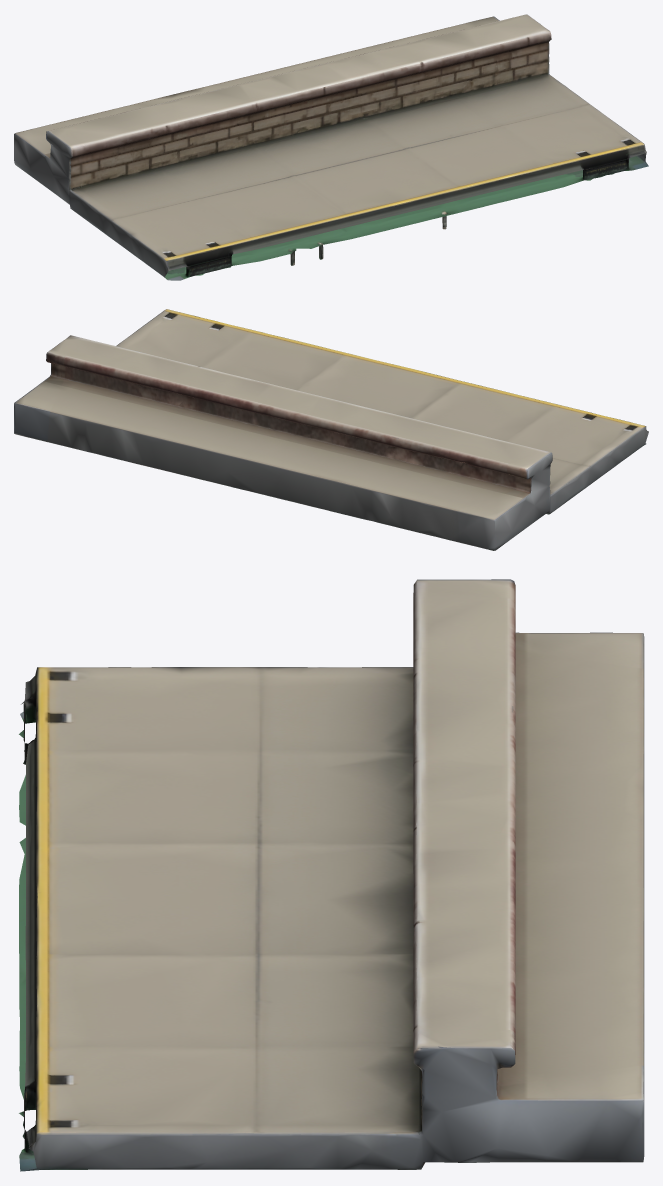
File: kaldırımtasi.fbx
The picture shows the model from 3 angles, top to bottom: view 1: azimuth 30°, elevation 25°; view 2: azimuth 150°, elevation 25°; view 3: azimuth 270°, elevation 25°; orthographic projection. The views are drawn at different scales.
Parts seen in each view (by area): view 1: Mesh_0.002; view 2: Mesh_0.002; view 3: Mesh_0.002.
Part boxes in pixels (box(x1,y1,x2,y2)): Mesh_0.002: box(14, 14, 648, 280); Mesh_0.002: box(14, 309, 648, 550); Mesh_0.002: box(19, 579, 644, 1171).
Bounding box in the file's own units: 191 × 30.07 × 108.
1 material, 1 textured.
